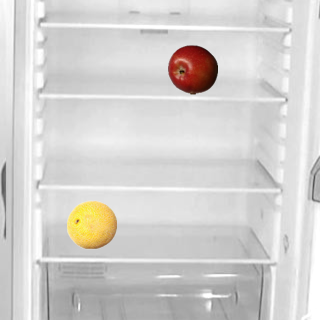Apple Braeburn: (167, 44, 217, 94)
Cantaloupe 1: (66, 199, 116, 249)
